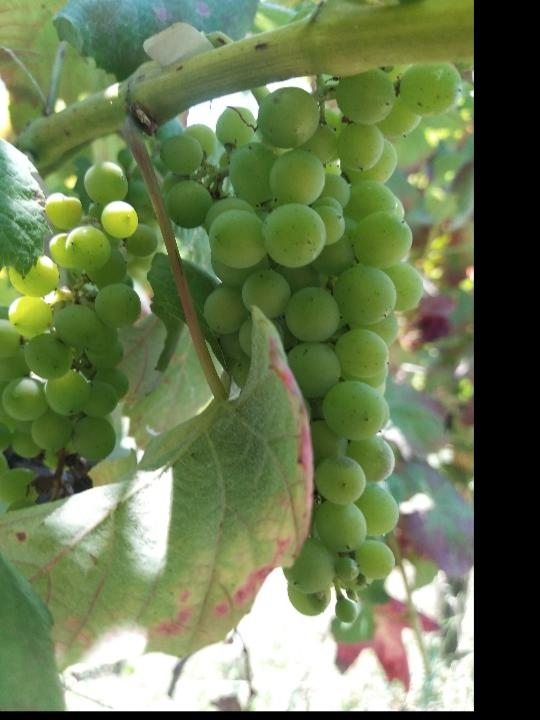grape: (156, 61, 462, 621), (0, 163, 156, 504)
